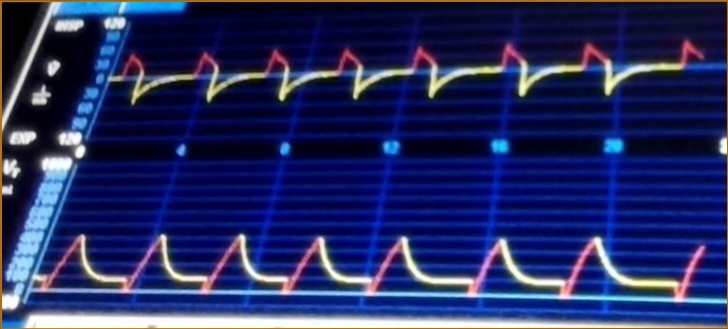Flow: (120, 28, 705, 127)
Leakage Volume: (36, 224, 703, 312)
